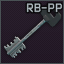RB-PP key: (0, 0, 64, 64)
